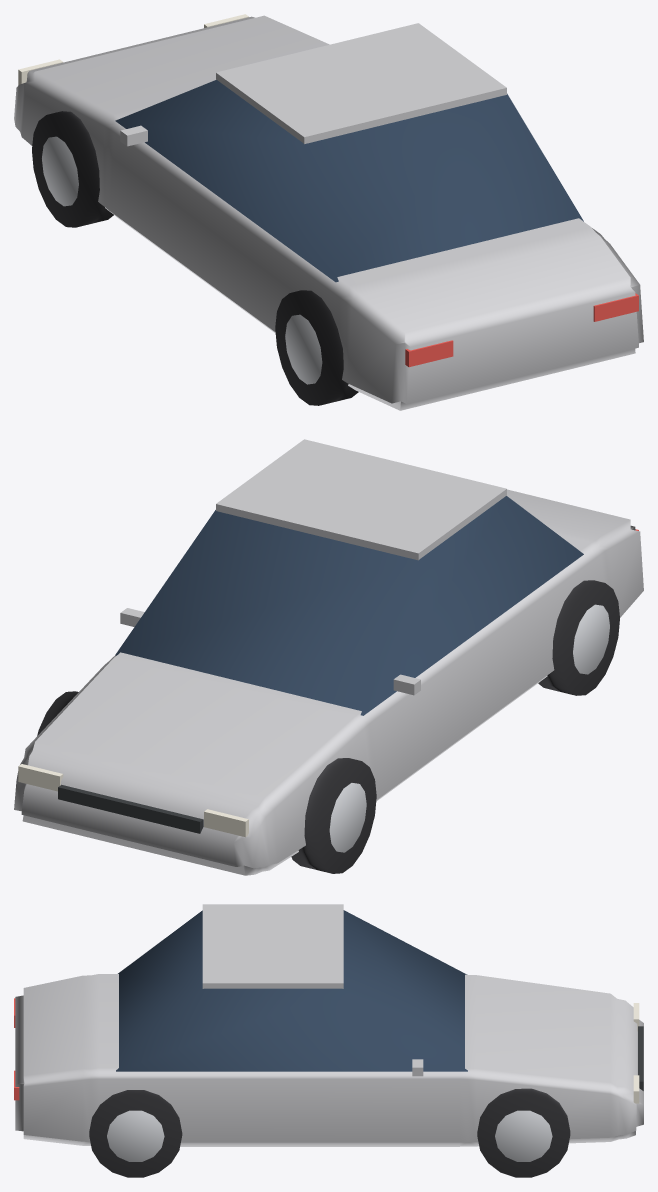
The model's file is car_sedan.glb.
The picture shows the model from 3 angles, top to bottom: view 1: azimuth 30°, elevation 25°; view 2: azimuth 150°, elevation 25°; view 3: azimuth 270°, elevation 25°; orthographic projection. The views are drawn at different scales.
Parts seen in each view (by area): view 1: LowerBody, CabinGlass, Cube, Cylinder.002, Cylinder, Cylinder.001, Cylinder.003, Cube.004, Cube.007; view 2: LowerBody, CabinGlass, Cube, Cylinder.002, Cylinder, Cube.001, Cylinder.003, Cylinder.001, Cube.003, Cube.006; view 3: LowerBody, CabinGlass, Cube, Cylinder.006, Cylinder.004, Cylinder.005, Cylinder.007.
Part boxes in pixels (x1=…): LowerBody: x1=14, y1=15, x2=643, y2=410; CabinGlass: x1=115, y1=80, x2=583, y2=282; Cube: x1=216, y1=23, x2=506, y2=144; Cylinder.002: x1=32, y1=111, x2=113, y2=227; Cylinder: x1=275, y1=290, x2=358, y2=405; Cylinder.001: x1=285, y1=314, x2=322, y2=384; Cylinder.003: x1=42, y1=136, x2=78, y2=206; Cube.004: x1=405, y1=340, x2=453, y2=367; Cube.007: x1=593, y1=293, x2=638, y2=321; LowerBody: x1=14, y1=489, x2=643, y2=875; CabinGlass: x1=115, y1=496, x2=583, y2=715; Cube: x1=216, y1=439, x2=506, y2=560; Cylinder.002: x1=291, y1=758, x2=376, y2=873; Cylinder: x1=538, y1=580, x2=619, y2=695; Cube.001: x1=58, y1=784, x2=203, y2=833; Cylinder.003: x1=329, y1=783, x2=366, y2=852; Cylinder.001: x1=573, y1=604, x2=609, y2=674; Cube.003: x1=204, y1=809, x2=248, y2=837; Cube.006: x1=18, y1=764, x2=63, y2=791; LowerBody: x1=15, y1=974, x2=643, y2=1146; CabinGlass: x1=116, y1=910, x2=467, y2=1071; Cube: x1=202, y1=904, x2=343, y2=988; Cylinder.006: x1=477, y1=1088, x2=570, y2=1177; Cylinder.004: x1=89, y1=1090, x2=182, y2=1177; Cylinder.005: x1=107, y1=1110, x2=164, y2=1161; Cylinder.007: x1=495, y1=1110, x2=552, y2=1161.
Bounding box in the file's own units: 1.98 × 1.44 × 4.61.
